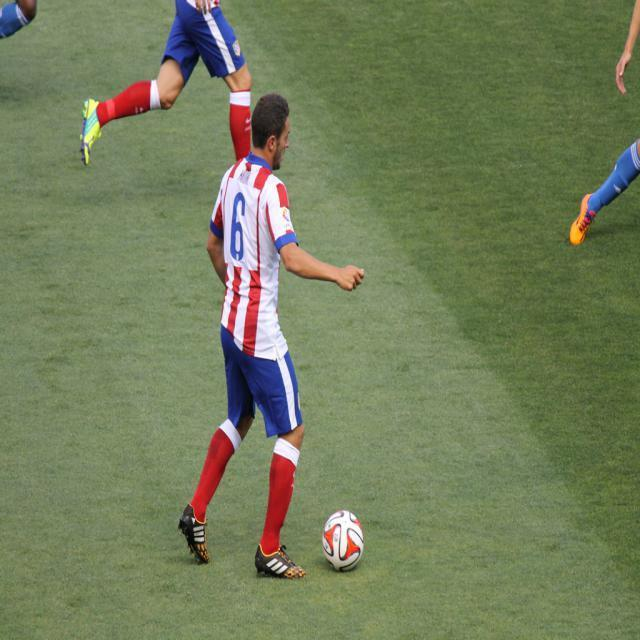football: (317, 501, 376, 574)
